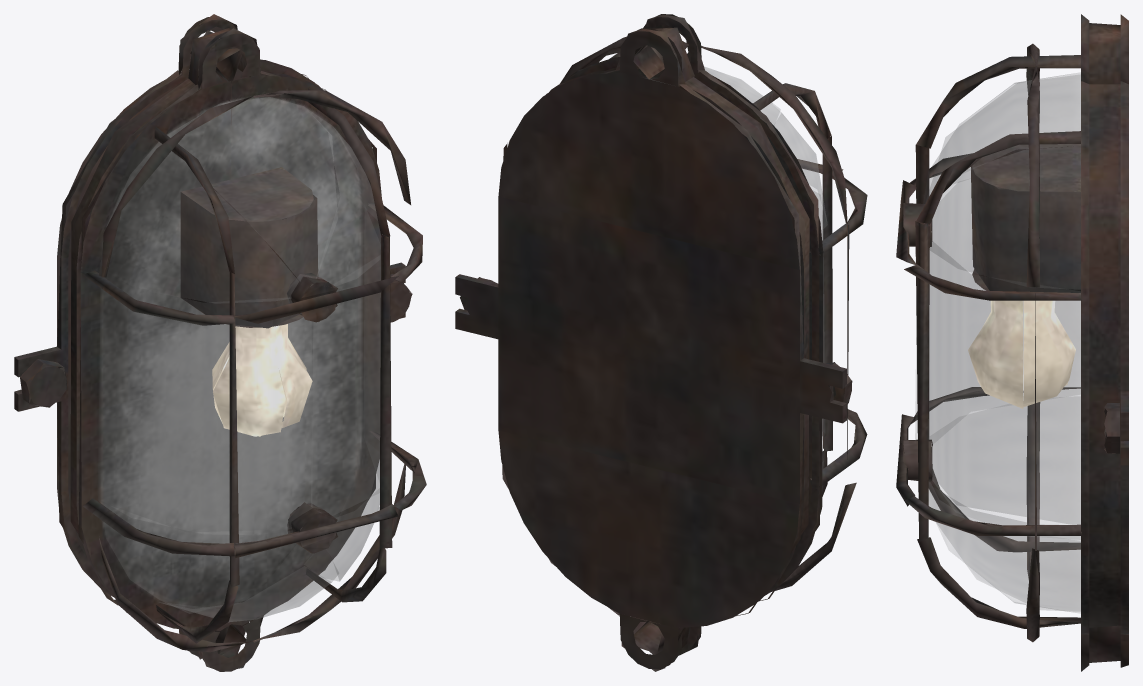
File: ph_industrial_wall_lamp.glb
The picture shows the model from 3 angles, left to right: view 1: azimuth 30°, elevation 25°; view 2: azimuth 150°, elevation 25°; view 3: azimuth 270°, elevation 25°; orthographic projection.
Parts seen in each view (by area): view 1: industrial_wall_lamp; view 2: industrial_wall_lamp; view 3: industrial_wall_lamp.
Boxes of the visible parts, x1,y1,x2,y2 form: industrial_wall_lamp: [14, 14, 426, 671]; industrial_wall_lamp: [455, 14, 867, 671]; industrial_wall_lamp: [896, 14, 1128, 671].
Size of the model in its own units: 0.2737 by 0.432 by 0.14.
2 materials, 2 textured.
